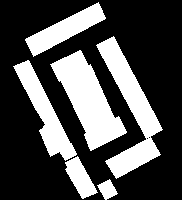parkingspot: (96, 36, 162, 138), (13, 60, 71, 156), (25, 2, 105, 56), (60, 64, 114, 133), (105, 137, 160, 178), (84, 116, 126, 150), (65, 156, 97, 198), (50, 50, 88, 81), (97, 179, 117, 199), (59, 143, 76, 160)
